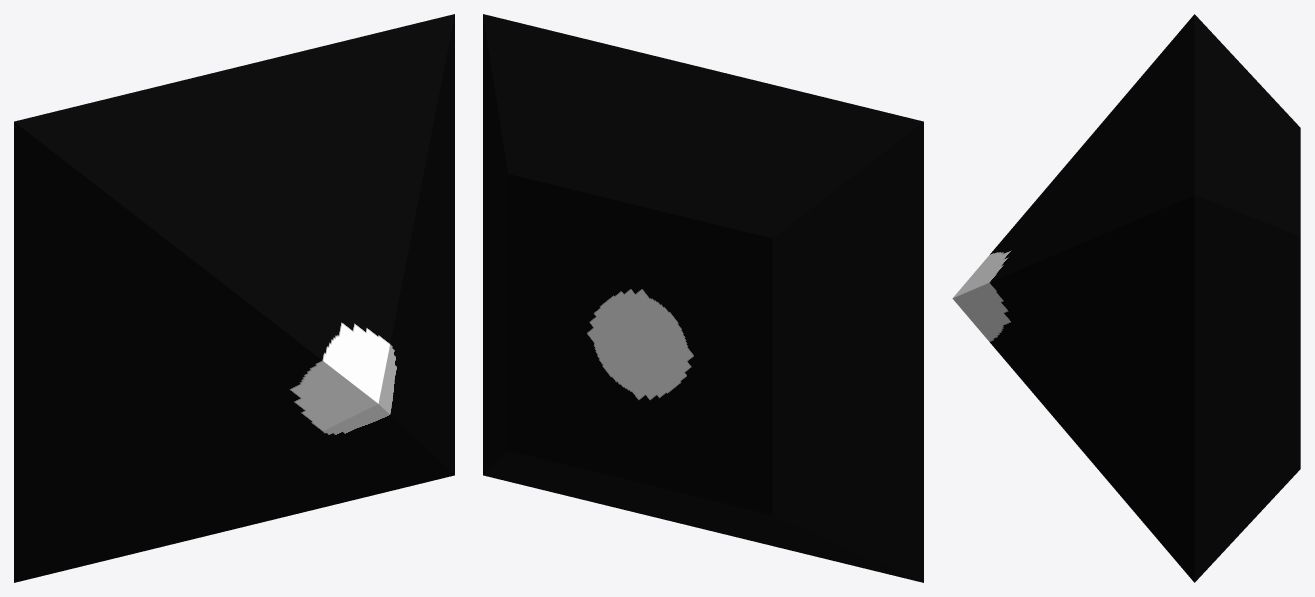
Rendered from SqrGem.fbx.
3 views of the same model, side by side, from view 1: azimuth 30°, elevation 25°; view 2: azimuth 150°, elevation 25°; view 3: azimuth 270°, elevation 25° (orthographic). The views are drawn at different scales.
Parts seen in each view (by area): view 1: SQR; view 2: SQR; view 3: SQR.
Part boxes in pixels (x1,y1,x2,y2): SQR: (14, 14, 454, 582); SQR: (483, 14, 923, 582); SQR: (952, 14, 1300, 582).
Bounding box in the file's own units: 0.1244 × 0.1011 × 0.1244.
